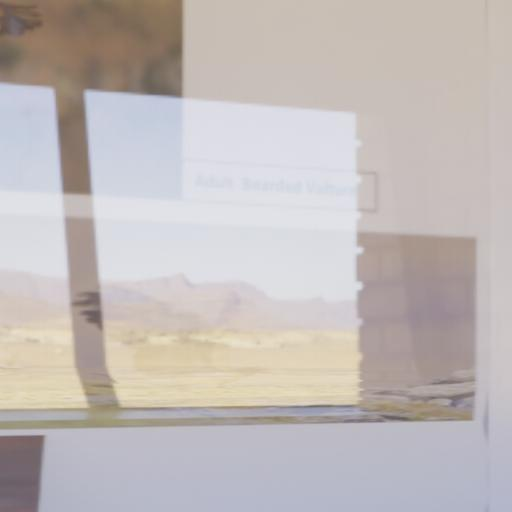nothing: (2, 5, 512, 508)
